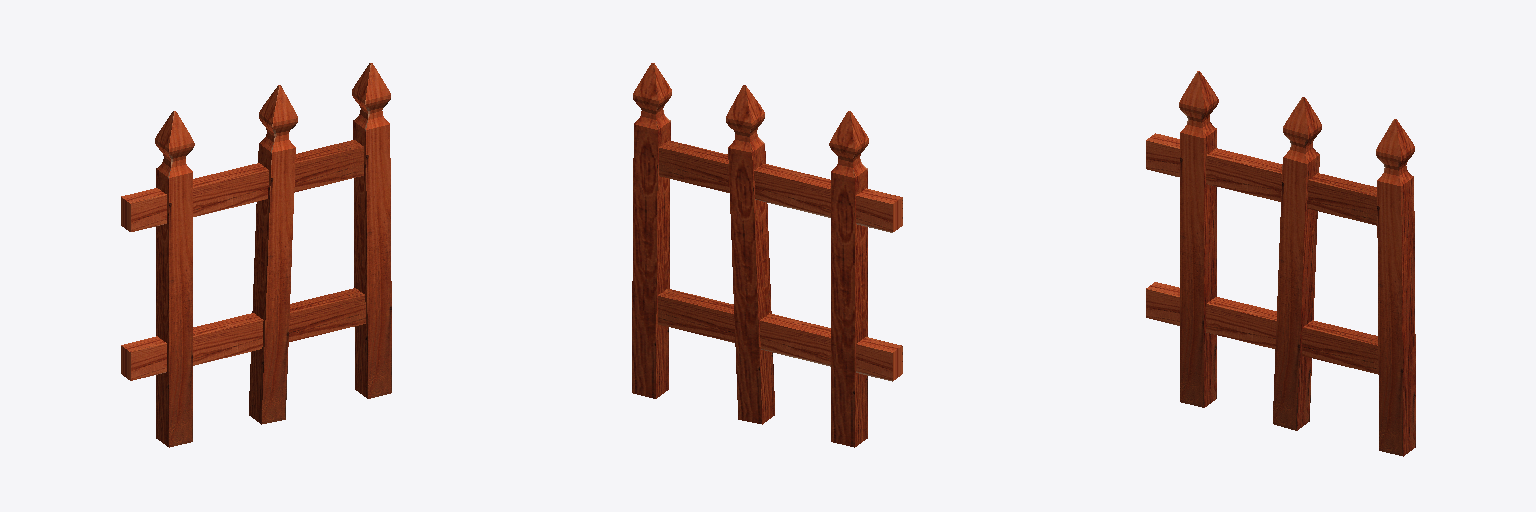
3 views of the same model, side by side, from view 1: azimuth 30°, elevation 25°; view 2: azimuth 150°, elevation 25°; view 3: azimuth 330°, elevation 25° (orthographic).
Visible parts, largest first — view 1: Form1, Form3; view 2: Form1, Form3; view 3: Form1, Form3.
Boxes of the visible parts, x1,y1,x2,y2 form: Form1: [155, 63, 391, 447]; Form3: [121, 140, 365, 380]; Form1: [632, 63, 868, 447]; Form3: [658, 140, 902, 381]; Form1: [1179, 71, 1415, 456]; Form3: [1146, 133, 1378, 374].
Bounding box in the file's own units: 3.98 × 4.82 × 0.3671.
Materials: 1 (1 with a texture image).